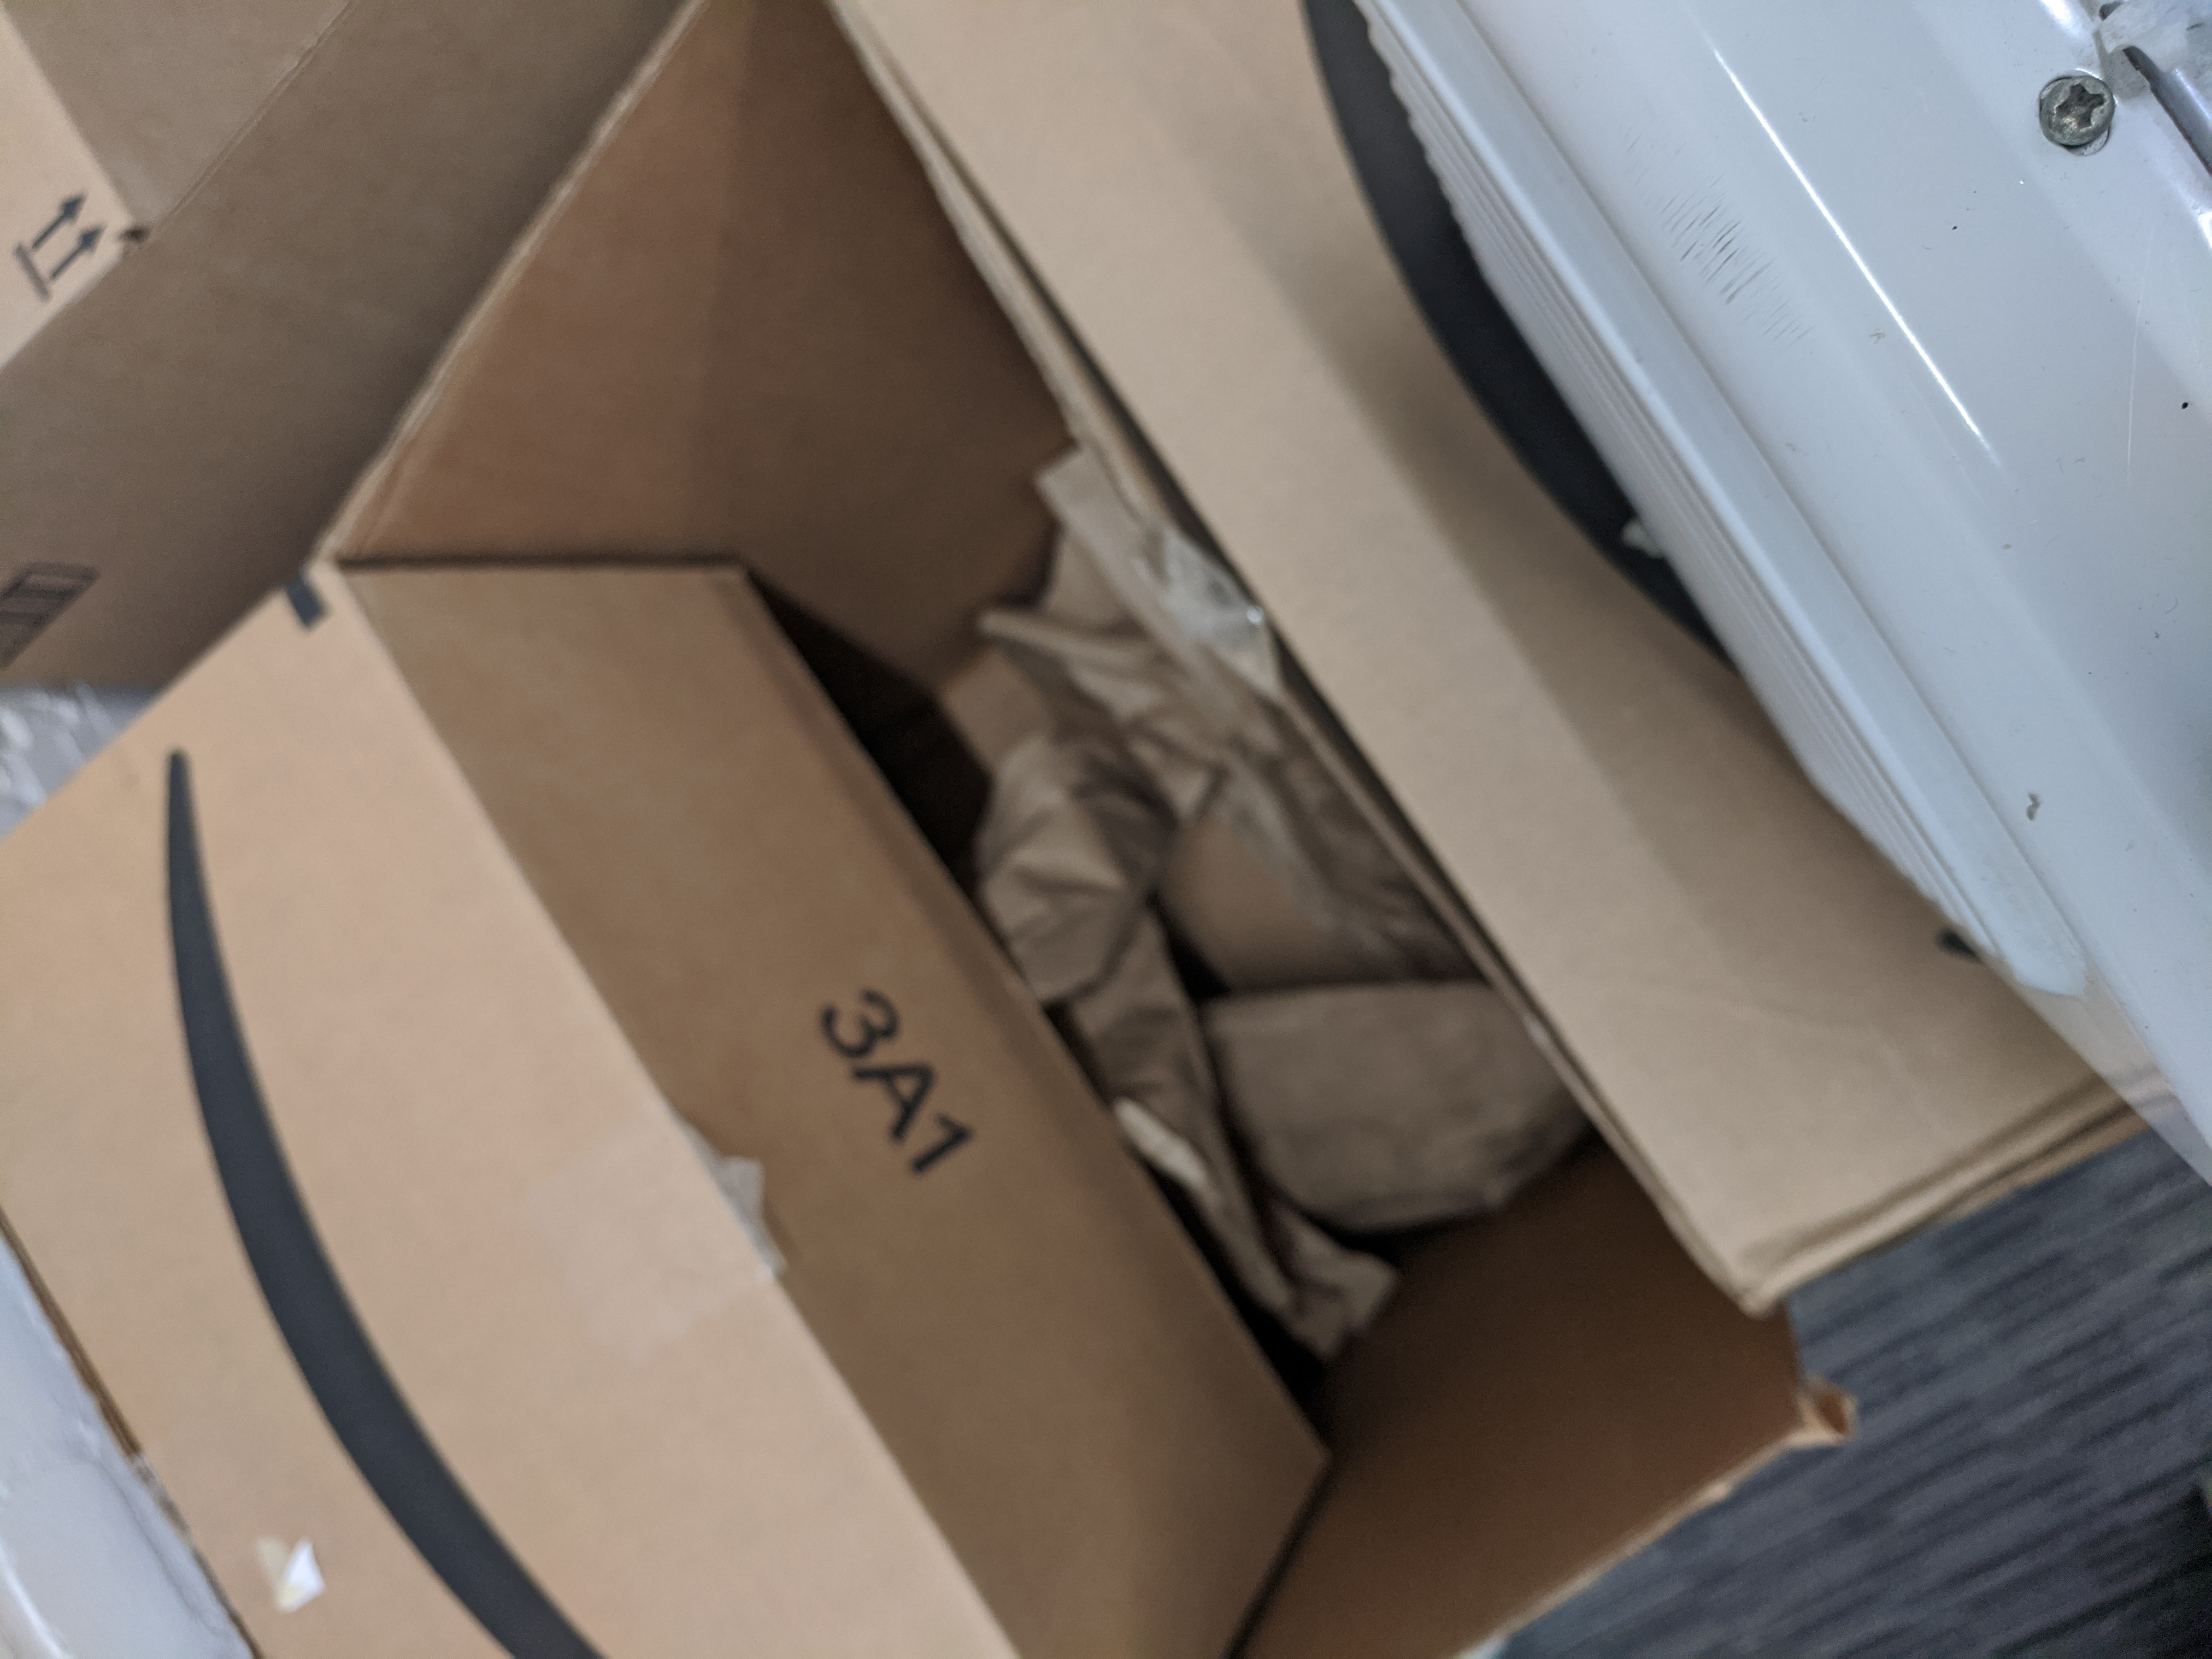cross_recessed_screw: (2027, 58, 2123, 152)
